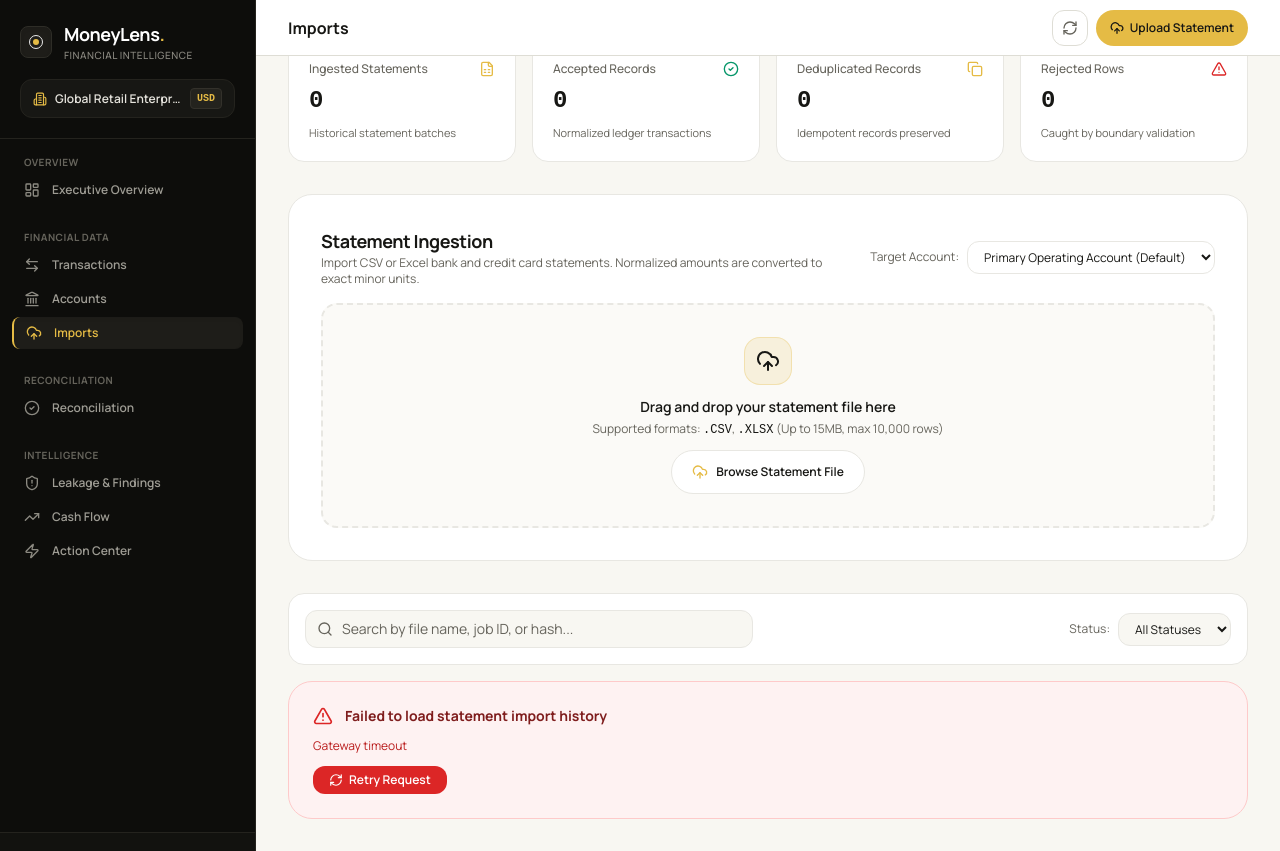
Scenario: MoneyLens Imports & Import History Page Component Suite › handles history error state with retry button
(page scrolled)
expect the message "Failed to load statement import history Gateway timeout Retry Request" is shown: met, box x1=288 y1=681 x2=1248 y2=819
expect the heading "Failed to load statement import history" is shown: met, box x1=345 y1=706 x2=607 y2=726
Click the button "Retry Request". click: click(380, 780)
box: x1=313 y1=766 x2=447 y2=794
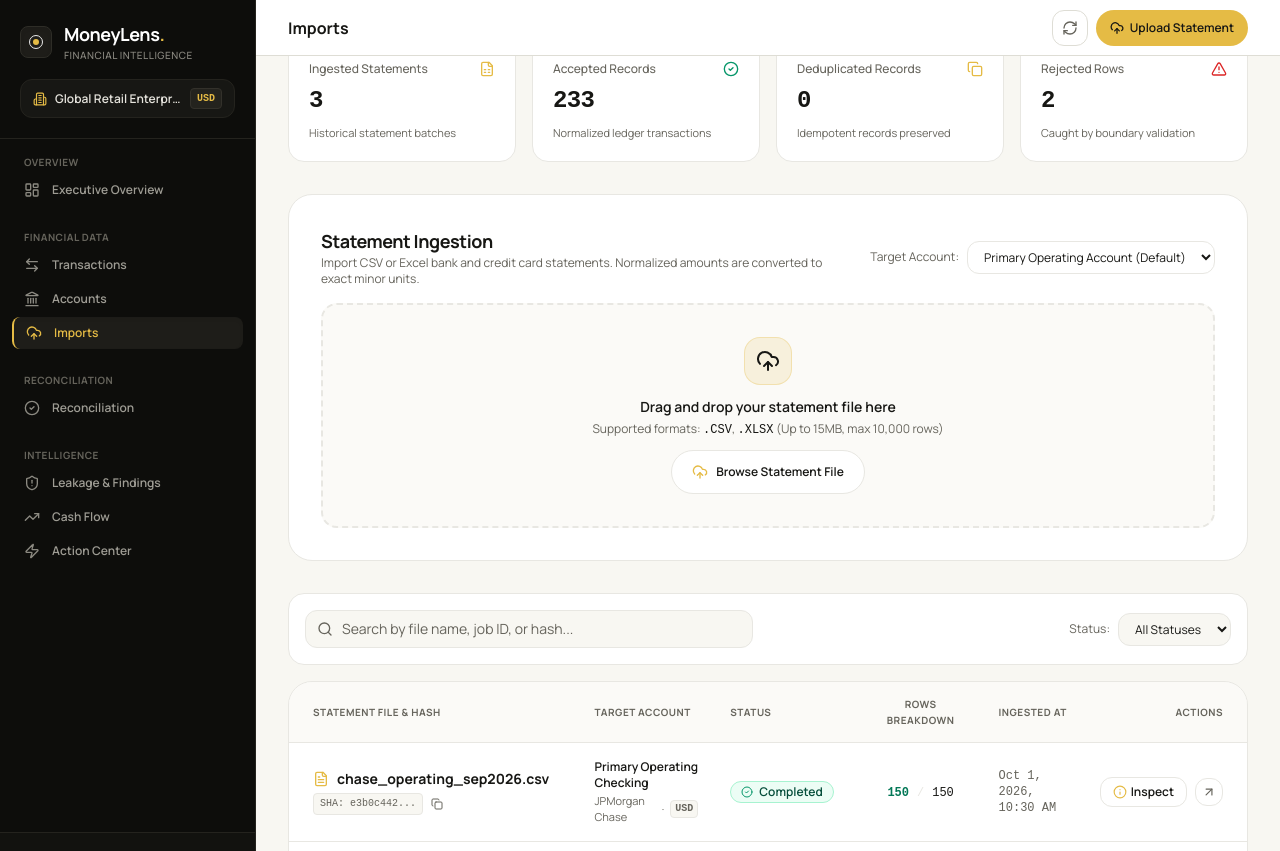
expect the text "chase_operating_sep2026.csv" is shown: met, box x1=337 y1=769 x2=549 y2=789
